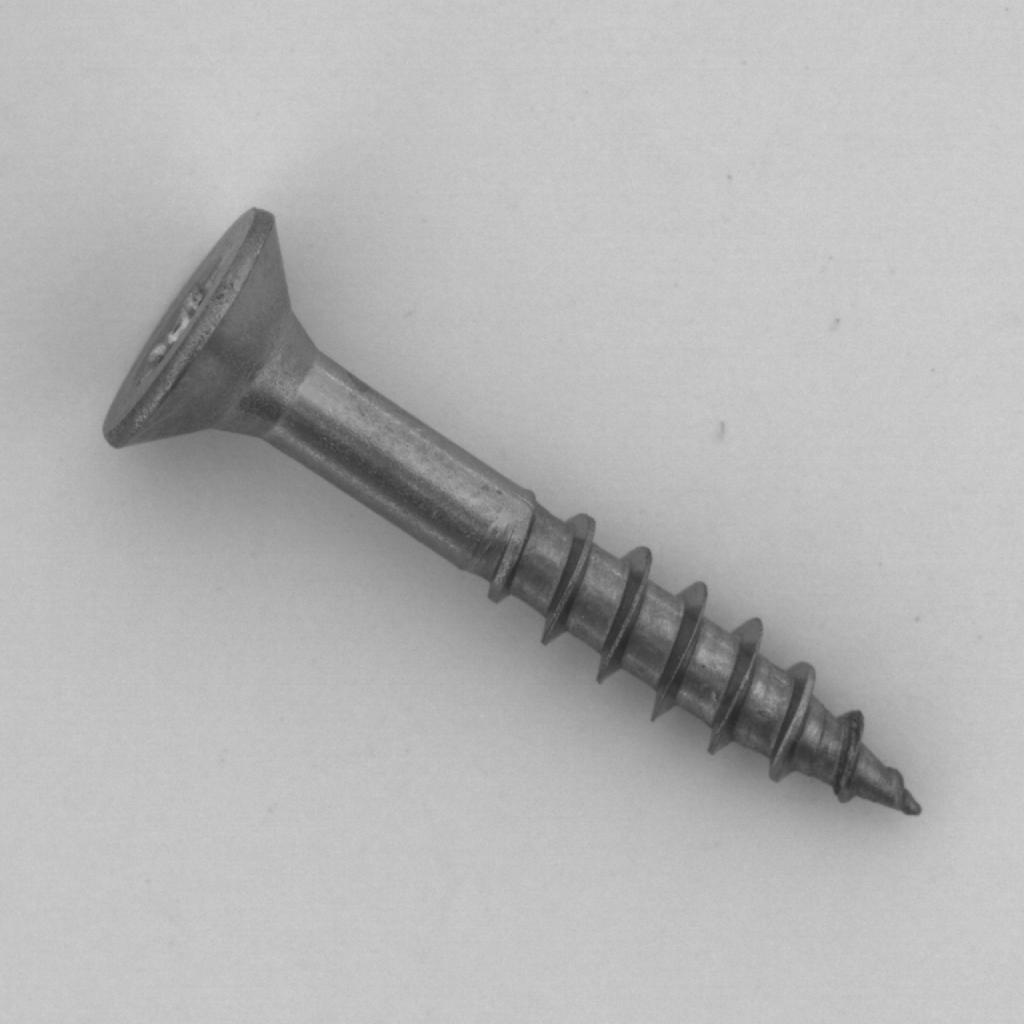good: (77, 188, 949, 841)
